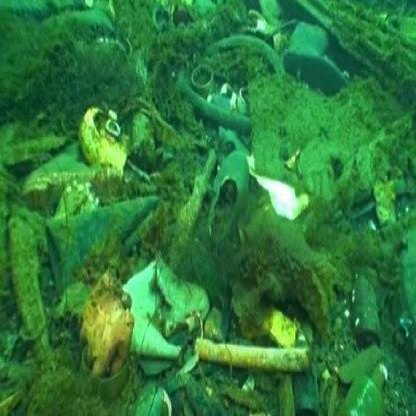rod: (197, 322, 318, 390)
